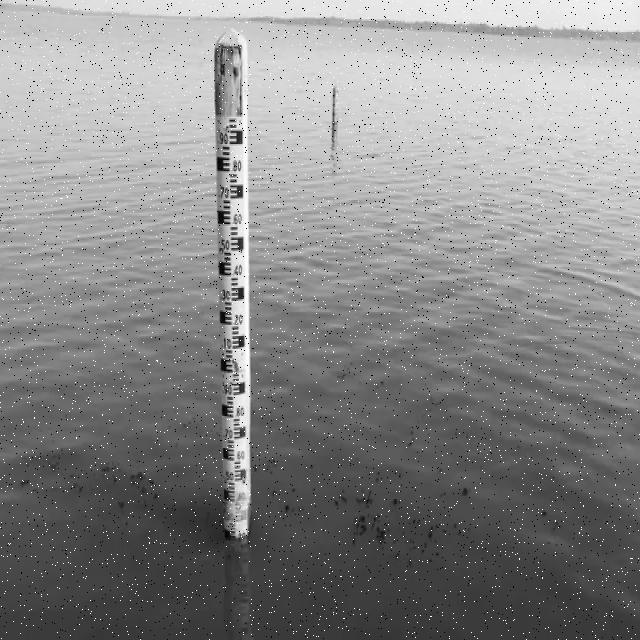staff: (214, 112, 250, 541)
